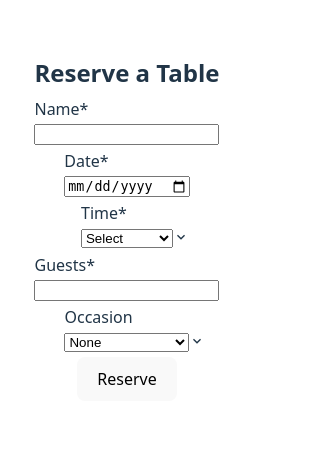
Test case: BookingForm › shows validation errors on empty submit
Click the button "Reserve" at point(127, 379), box [77,357,177,401]
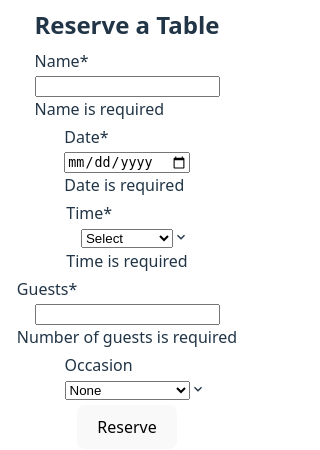
Now the text "Name is required" is shown, box [34,98,164,120]
Now the text "Date is required" is shown, box [64,173,190,197]
Now the text "Time is required" is shown, box [66,249,188,273]
